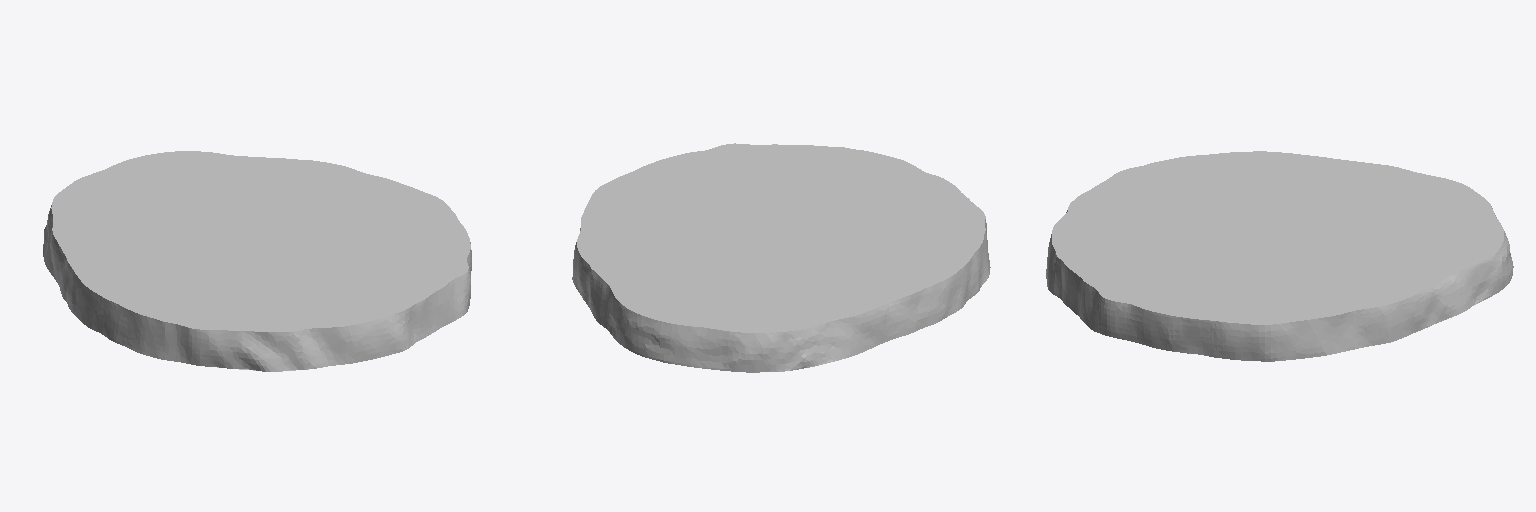
3 renders of one model, left to right at view 1: azimuth 30°, elevation 25°; view 2: azimuth 150°, elevation 25°; view 3: azimuth 270°, elevation 25°, orthographic.
Parts seen in each view (by area): view 1: low.008_Fotogrametria_MarioGomes_V01_Model_2.009; view 2: low.008_Fotogrametria_MarioGomes_V01_Model_2.009; view 3: low.008_Fotogrametria_MarioGomes_V01_Model_2.009.
Part boxes in pixels (left/top/right/bottom): low.008_Fotogrametria_MarioGomes_V01_Model_2.009: left=43, top=151, right=471, bottom=371; low.008_Fotogrametria_MarioGomes_V01_Model_2.009: left=572, top=143, right=990, bottom=372; low.008_Fotogrametria_MarioGomes_V01_Model_2.009: left=1046, top=151, right=1513, bottom=361.
Bounding box in the file's own units: 2.1 × 0.2013 × 2.35.